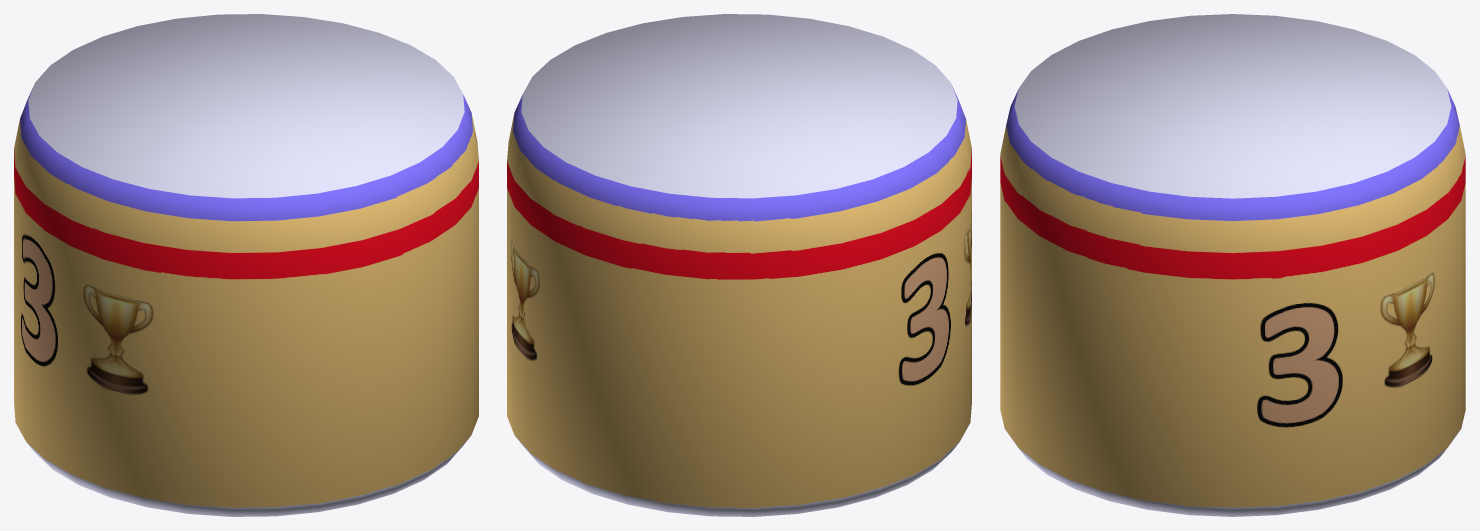
The model's file is BigStone.fbx.
3 renders of one model, left to right at view 1: azimuth 30°, elevation 25°; view 2: azimuth 150°, elevation 25°; view 3: azimuth 270°, elevation 25°, orthographic.
Visible parts, largest first — view 1: Cylinder; view 2: Cylinder; view 3: Cylinder.
Boxes of the visible parts, x1,y1,x2,y2 form: Cylinder: [14, 14, 478, 516]; Cylinder: [507, 14, 971, 516]; Cylinder: [1000, 14, 1465, 516].
Size of the model in its own units: 2 by 1.5 by 2.
